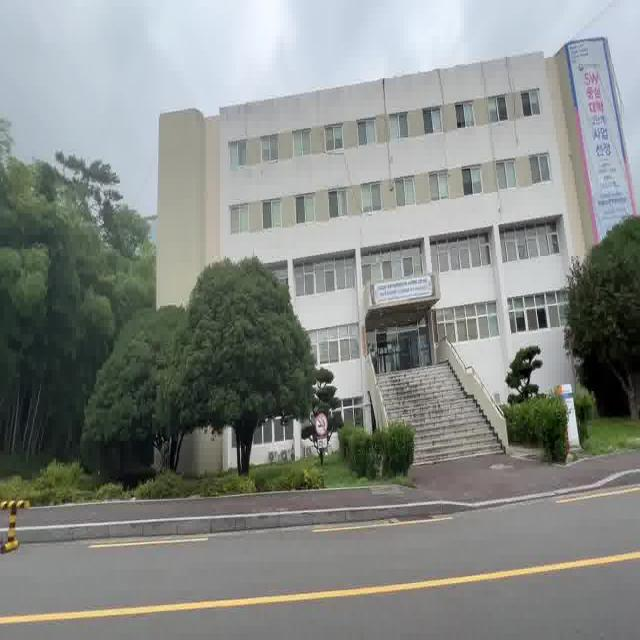building: (306, 56, 558, 356)
